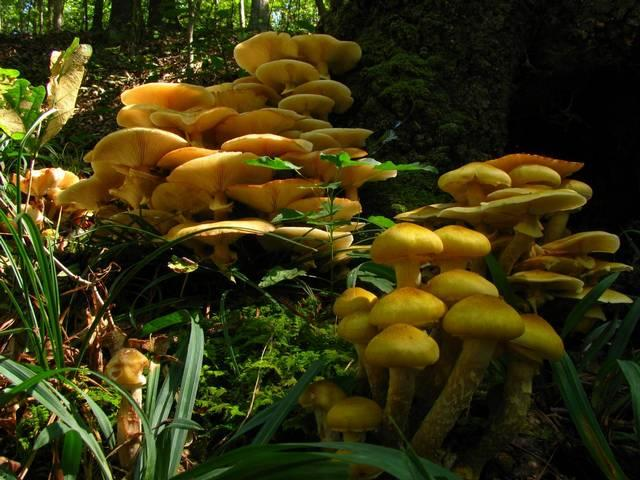Edible Mushroom: (312, 151, 632, 471), (56, 29, 397, 275)
